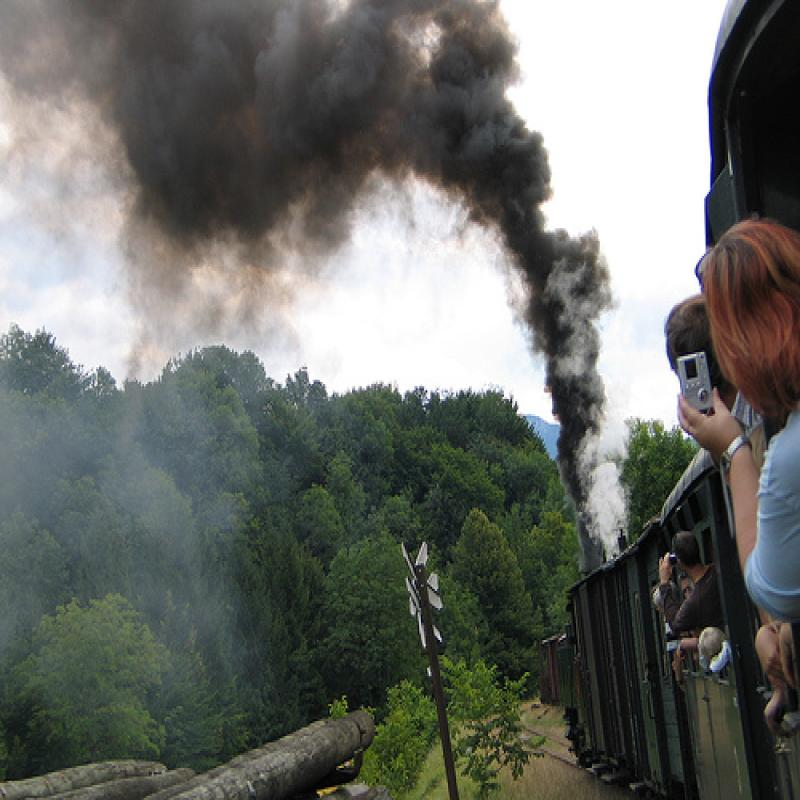train: (539, 1, 800, 797)
